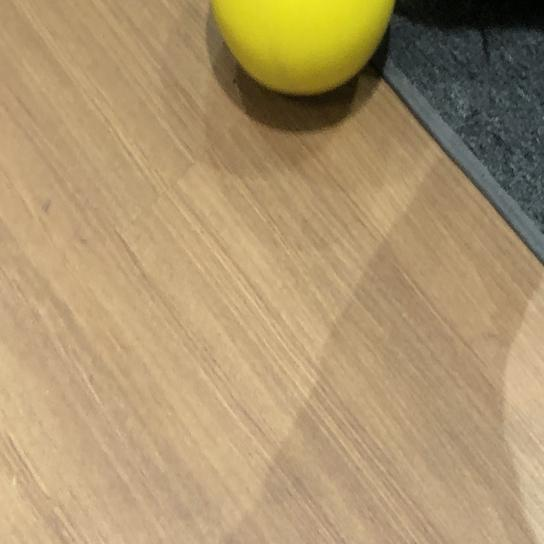ball: (210, 1, 394, 98)
